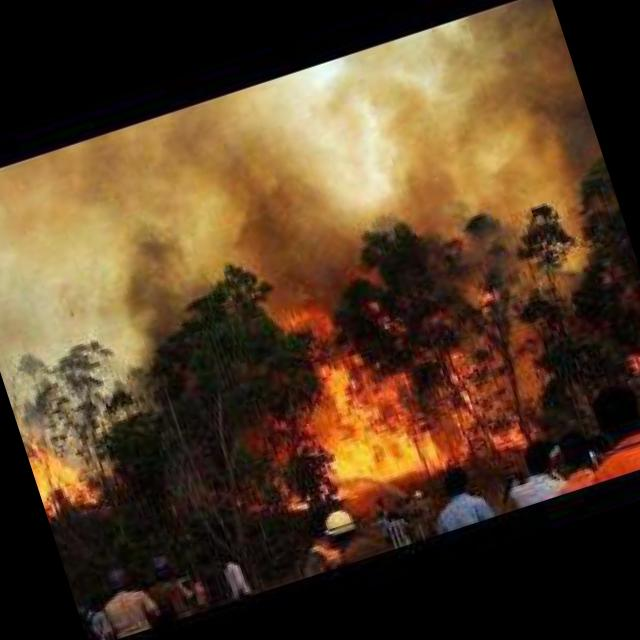fire: (239, 258, 534, 516), (21, 408, 134, 520)
smoke: (321, 0, 617, 275), (178, 97, 378, 336), (84, 193, 213, 370)
